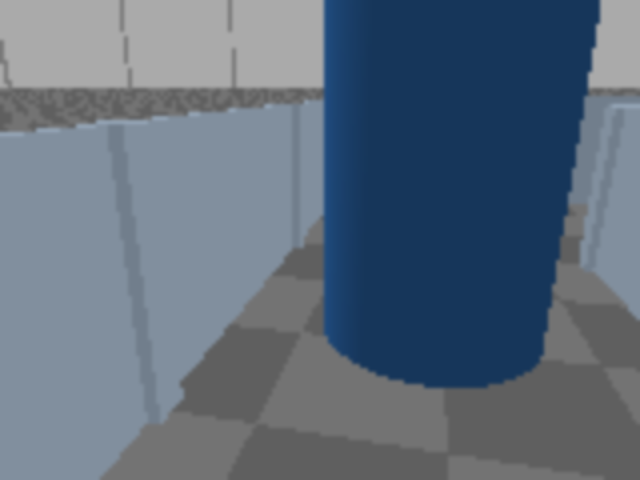person: (325, 0, 638, 386)
